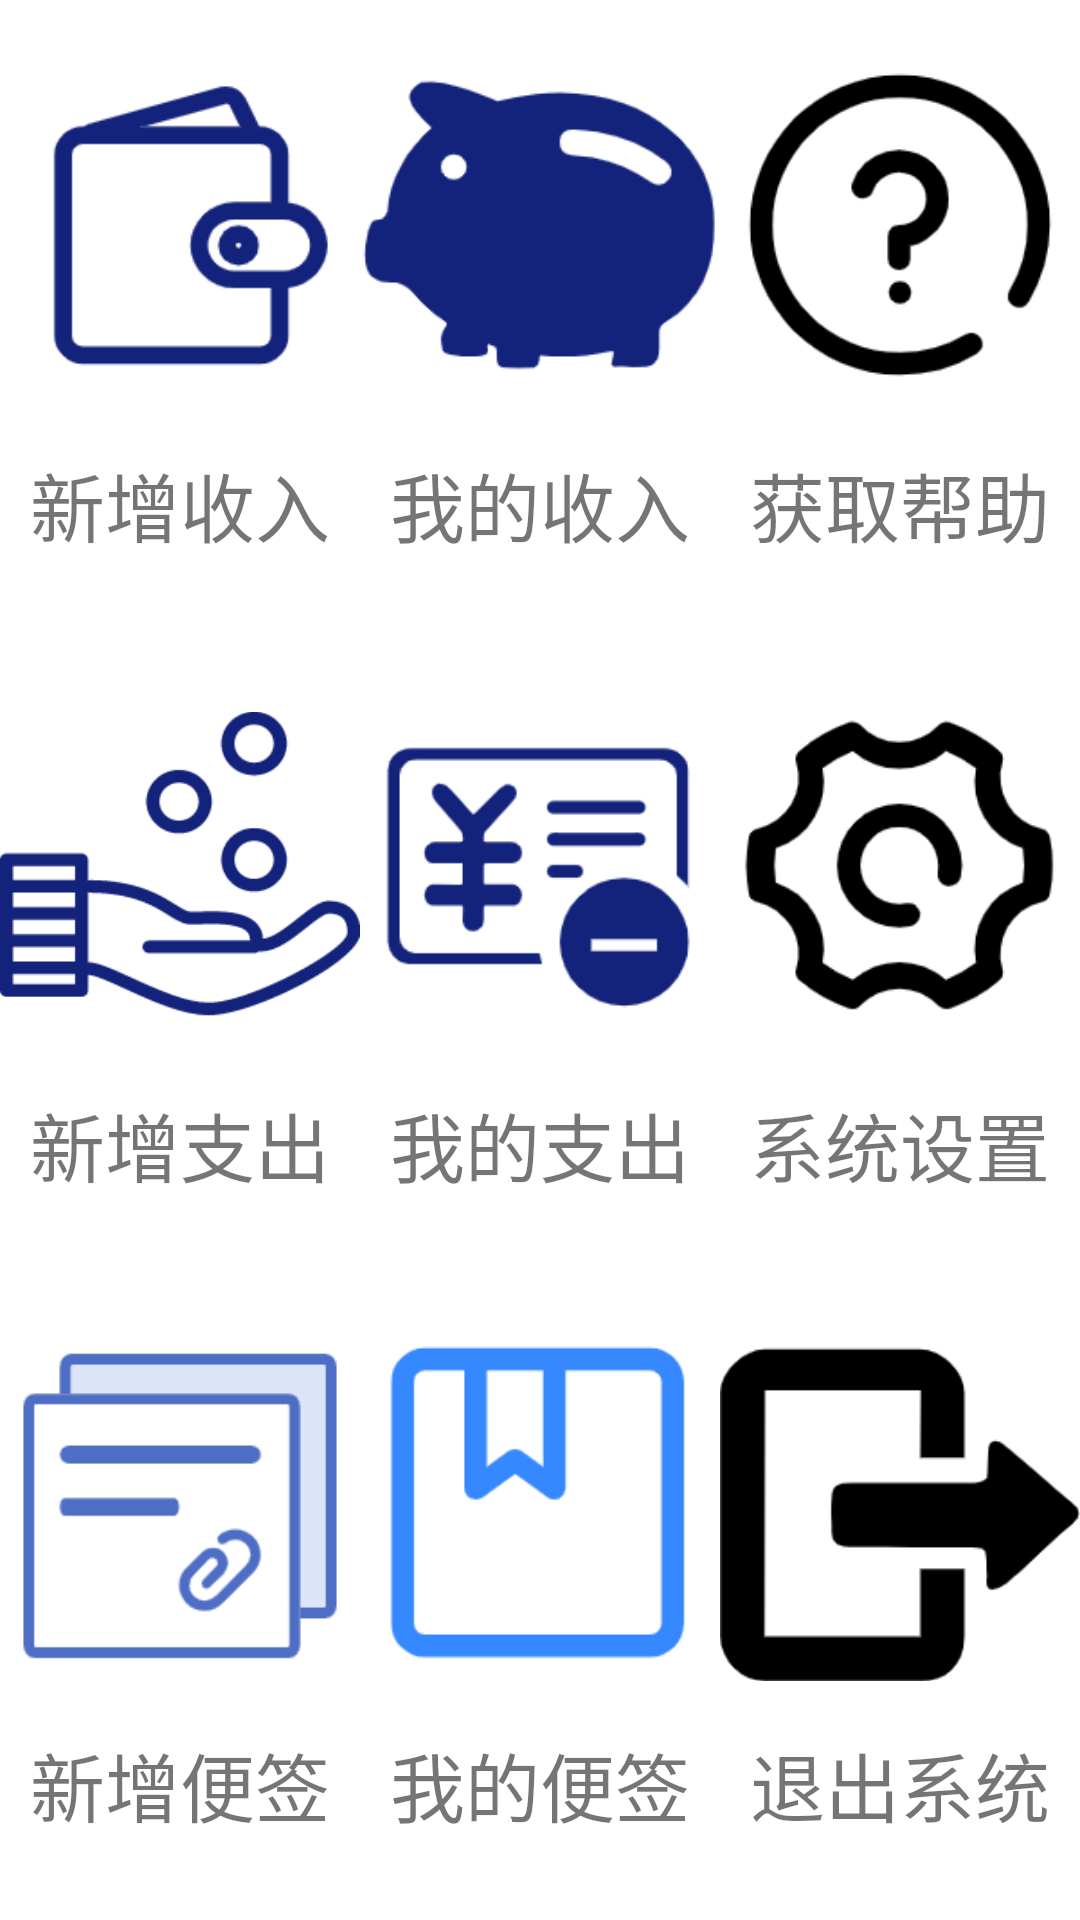

Named icons in this screenshot (1080px×1920px) and their bounding boxes, (x1, y1, x2, y2):
addincome: (53, 86, 328, 366)
